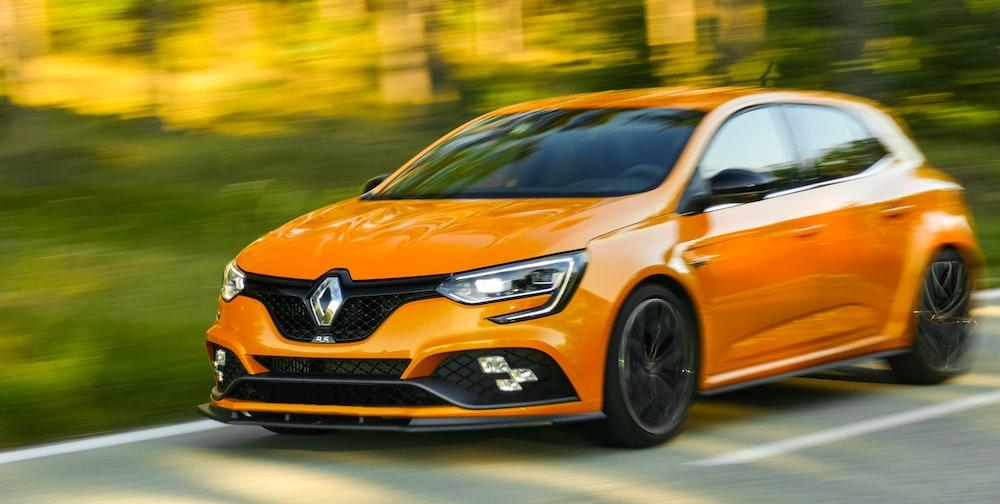Renault: (305, 263, 357, 336)
